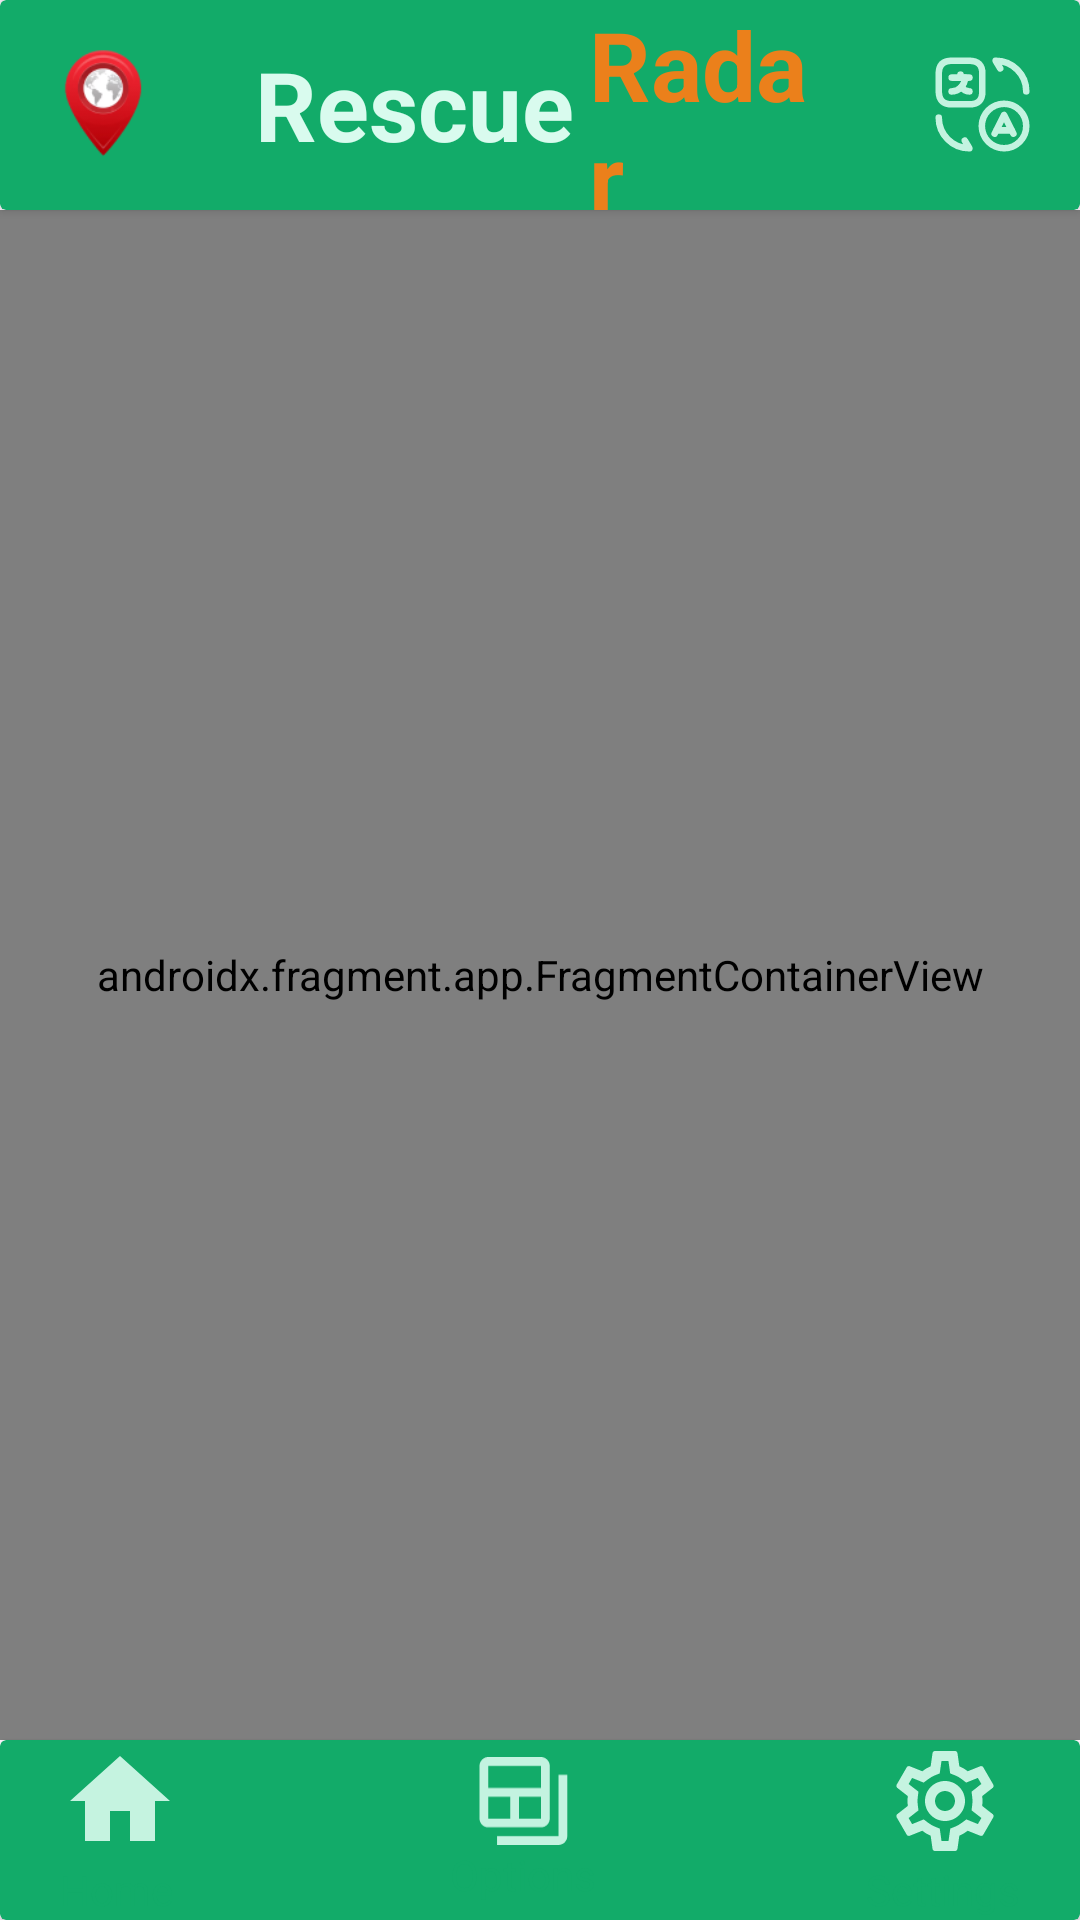

Screen size 1080px×1920px. Icon name, then its box in pixels as bbox(x1, y1, x2, y2):
locimage: bbox(65, 50, 142, 156)
translate: bbox(935, 57, 1030, 152)
